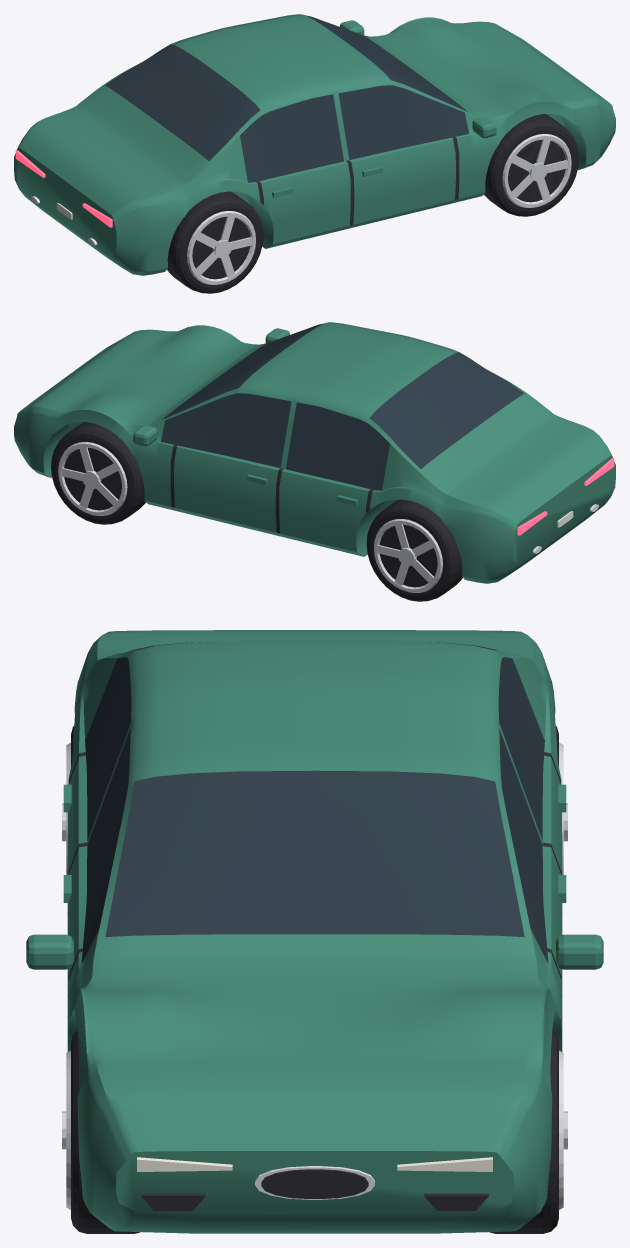
The model's file is jagwar_xe.fbx.
The picture shows the model from 3 angles, top to bottom: view 1: azimuth 30°, elevation 25°; view 2: azimuth 150°, elevation 25°; view 3: azimuth 270°, elevation 25°; orthographic projection. The views are drawn at different scales.
Parts seen in each view (by area): view 1: Body.007, Glass.007, Tire.007, Rim.007, Trim.007, TailLight.007; view 2: Body.007, Glass.007, Tire.007, Rim.007, Trim.007, TailLight.007; view 3: Body.007, Glass.007, Trim.007, Tire.007, Rim.007, HeadLight.007, Chrome.006.
Part boxes in pixels (bbox=[...]): Body.007: bbox=[14, 14, 615, 275]; Glass.007: bbox=[105, 14, 469, 182]; Tire.007: bbox=[167, 114, 578, 293]; Rim.007: bbox=[187, 134, 571, 284]; Trim.007: bbox=[192, 137, 565, 276]; TailLight.007: bbox=[15, 150, 112, 227]; Body.007: bbox=[14, 322, 615, 583]; Glass.007: bbox=[160, 322, 524, 490]; Tire.007: bbox=[51, 422, 462, 601]; Rim.007: bbox=[58, 442, 442, 592]; Trim.007: bbox=[64, 445, 436, 586]; TailLight.007: bbox=[517, 458, 614, 535]; Body.007: bbox=[26, 630, 603, 1233]; Glass.007: bbox=[81, 641, 548, 963]; Trim.007: bbox=[67, 752, 562, 1210]; Tire.007: bbox=[71, 726, 558, 1233]; Rim.007: bbox=[62, 742, 567, 1209]; HeadLight.007: bbox=[137, 1157, 492, 1171]; Chrome.006: bbox=[255, 1166, 374, 1199].
Bounding box in the file's own units: 1464 × 469 × 724.
